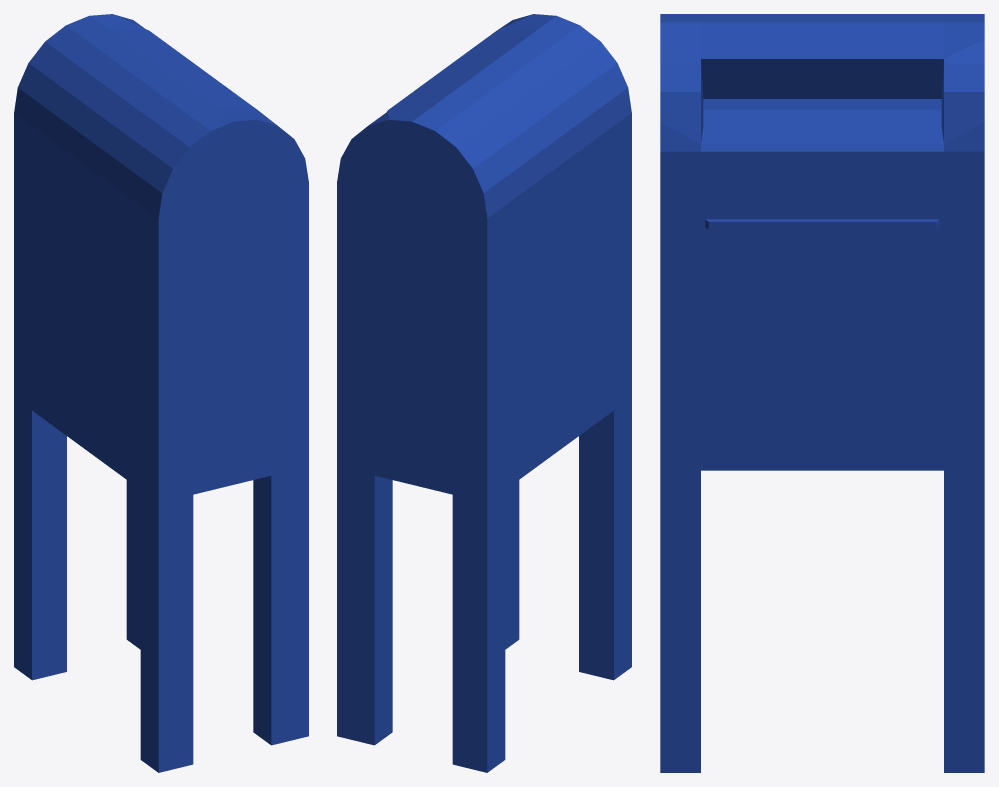
File: MailBox.fbx
3 views of the same model, side by side, from view 1: azimuth 30°, elevation 25°; view 2: azimuth 150°, elevation 25°; view 3: azimuth 270°, elevation 25° (orthographic). The views are drawn at different scales.
Parts seen in each view (by area): view 1: MailBox; view 2: MailBox; view 3: MailBox.
Boxes of the visible parts, left/top/right/bottom form: MailBox: left=14, top=14, right=308, bottom=772; MailBox: left=337, top=14, right=631, bottom=772; MailBox: left=660, top=14, right=984, bottom=772.
Bounding box in the file's own units: 0.3093 × 0.5 × 1.21.
1 material, 1 textured.
